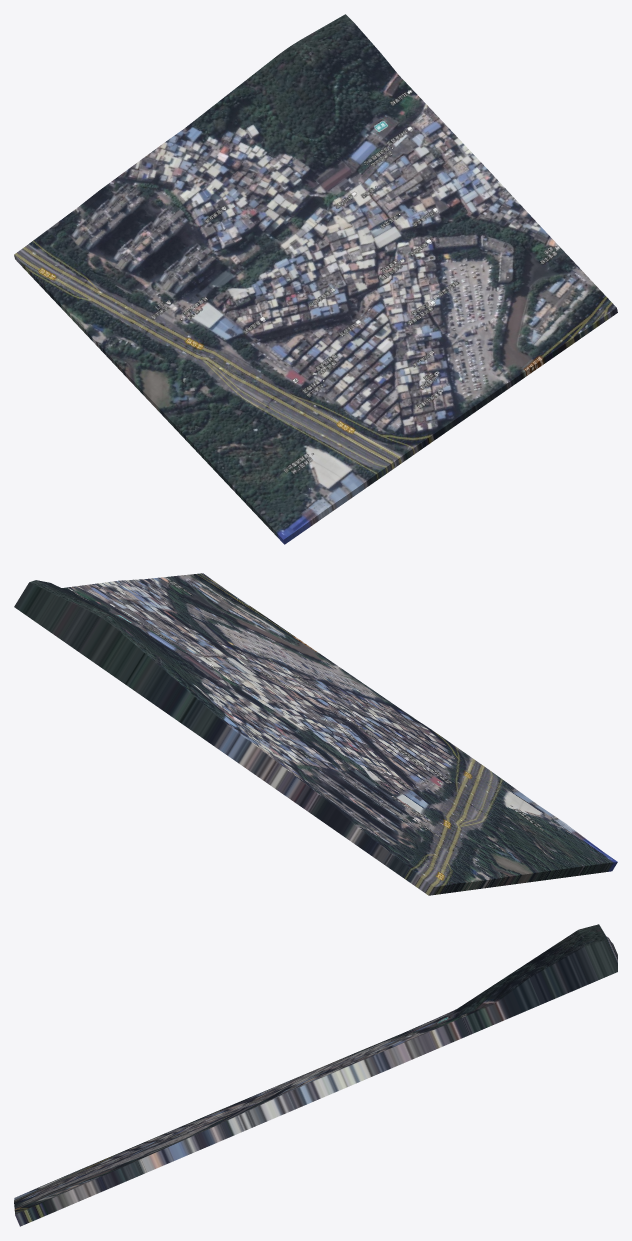
3 views of the same model, one above another, from view 1: azimuth 30°, elevation 25°; view 2: azimuth 150°, elevation 25°; view 3: azimuth 270°, elevation 25° (orthographic). The views are drawn at different scales.
Parts seen in each view (by area): view 1: 0_17_31; view 2: 0_17_31; view 3: 0_17_31.
Part boxes in pixels (x1,y1,x2,y2): 0_17_31: [14, 14, 617, 544]; 0_17_31: [14, 573, 617, 895]; 0_17_31: [14, 924, 617, 1226].
Bounding box in the file's own units: 596 × 455 × 548.
1 material, 1 textured.
